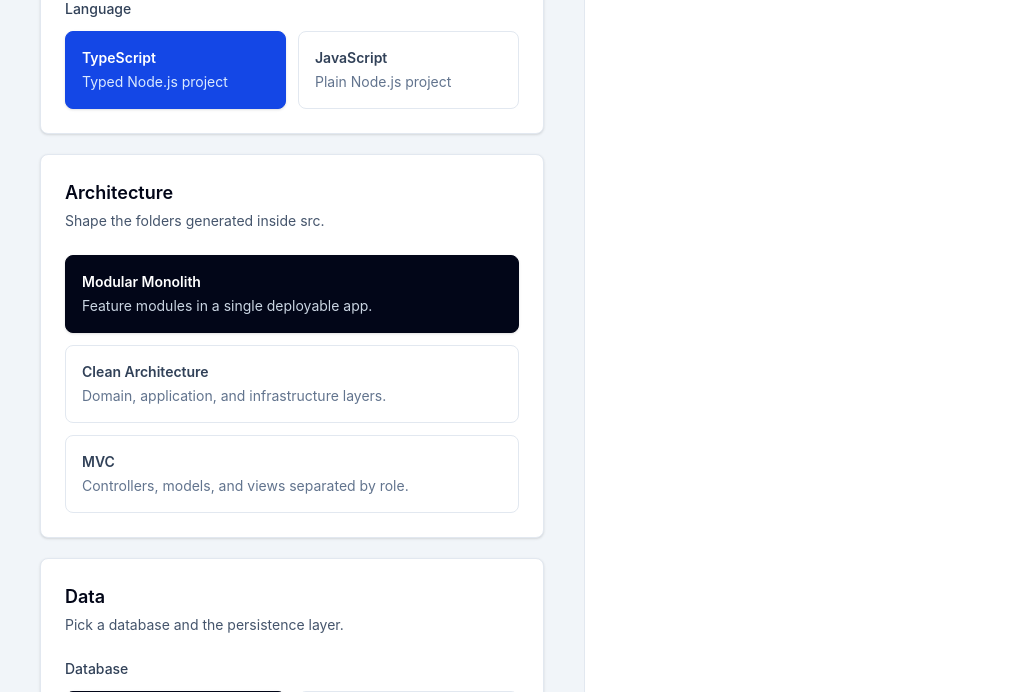
Test: App › altera arquitetura e atualiza o FileTree
(page scrolled)
Click the button "Clean Architecture" at (292, 384), box [65,345,519,423]
(page scrolled)
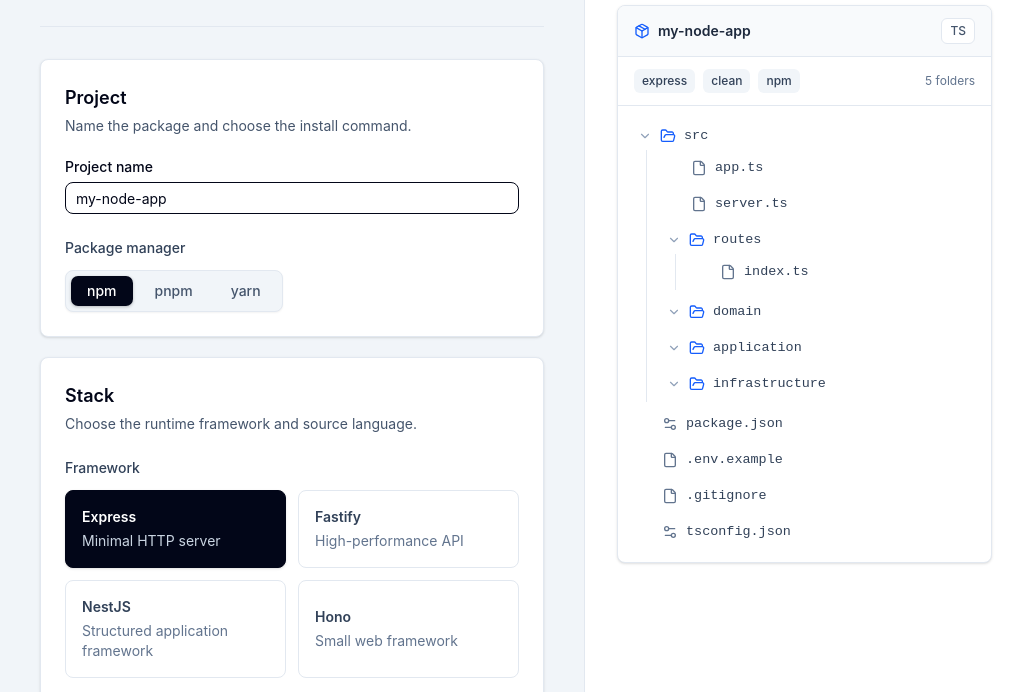
Expected: the text "clean" is shown, [703,69,750,93]
Expected: the text "domain" is shown, [713,302,761,322]
Expected: the text "application" is shown, [713,338,802,358]
